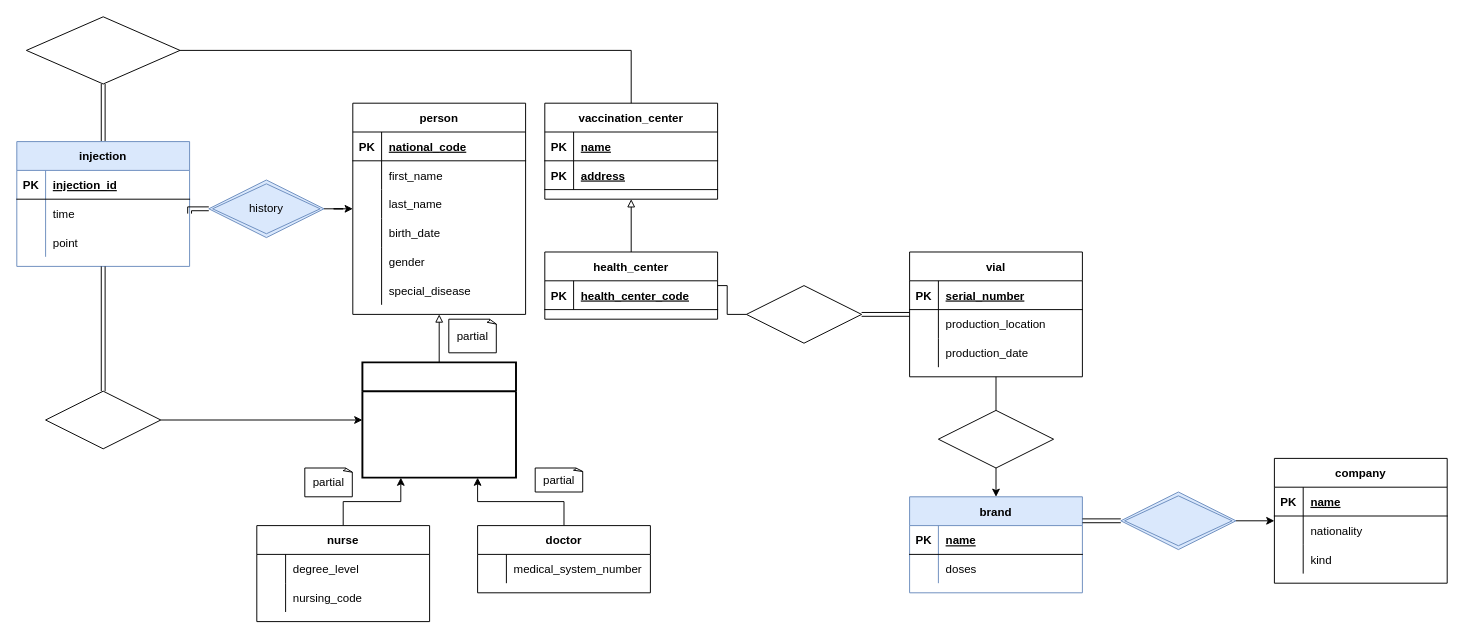
Image size: 1464x638. Some labels were removed from this diagram. The centre of each missing label's shape, as x and y in pixels:
"brand_company" goes at point 1178,520.
"injection_vacc_center" goes at point 102,50.
"injects" goes at point 103,419.
"stores" goes at point 803,314.
"vaccinator" goes at point 438,419.
"vial_brand" goes at point 995,438.
